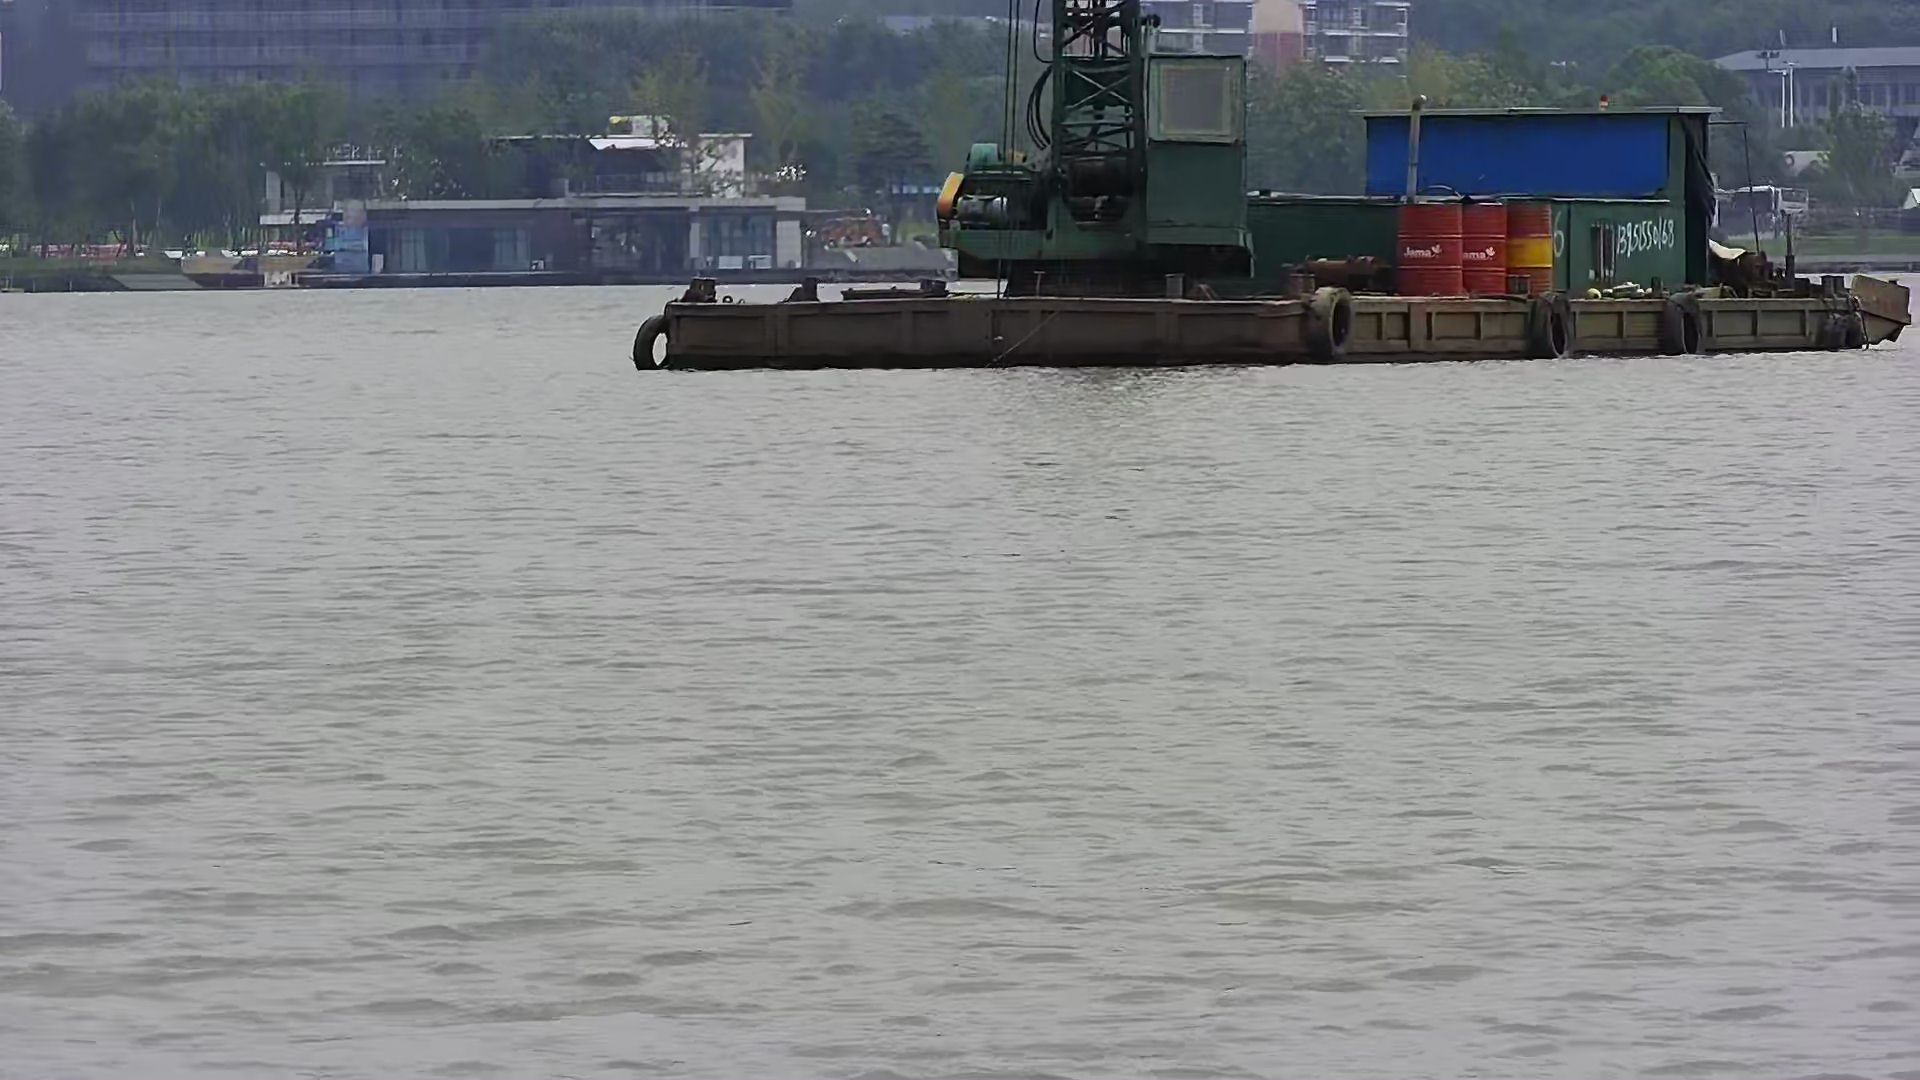ship: (622, 11, 1894, 357)
